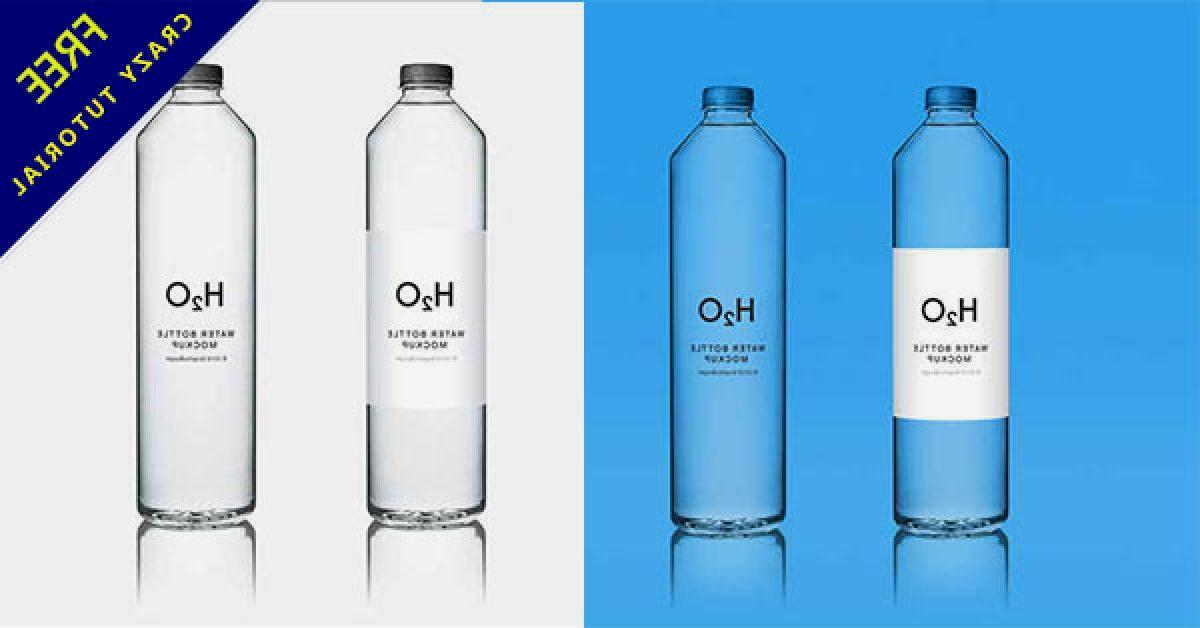bottle: (871, 76, 1027, 540), (365, 55, 498, 538), (130, 55, 263, 534), (663, 77, 796, 541)
